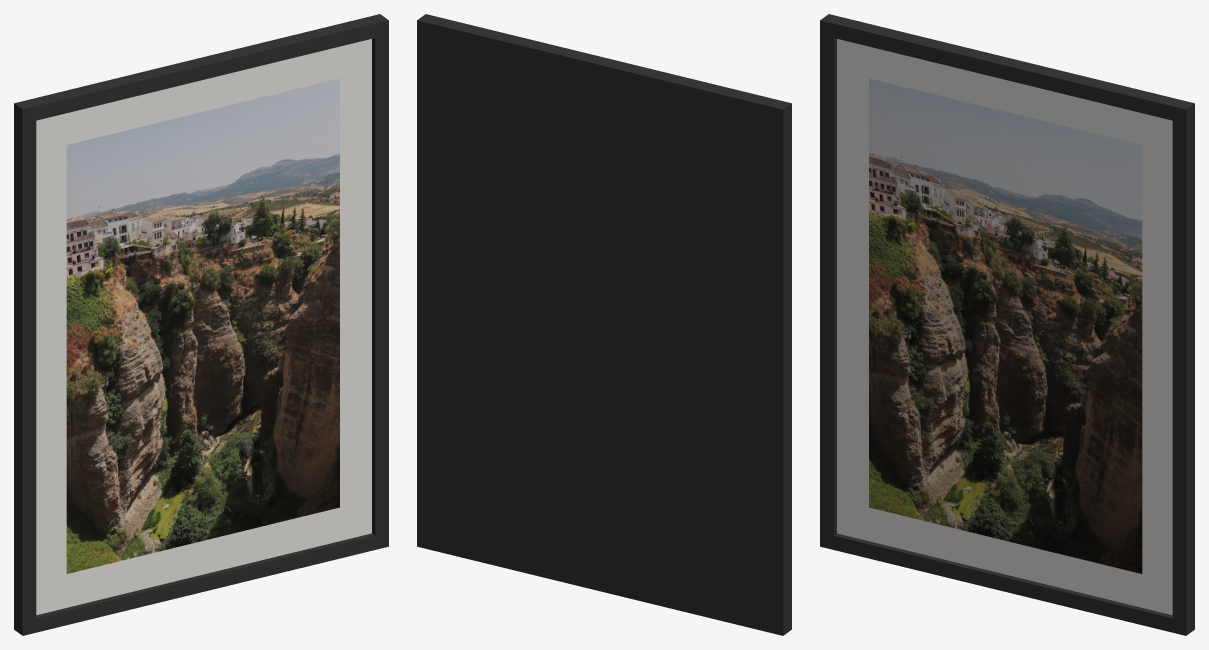
File: ronda-60.gltf
3 views of the same model, side by side, from view 1: azimuth 30°, elevation 25°; view 2: azimuth 150°, elevation 25°; view 3: azimuth 330°, elevation 25° (orthographic).
Parts seen in each view (by area): view 1: tavla; view 2: tavla; view 3: tavla.
Part boxes in pixels (left/top/right/bottom): tavla: left=14, top=14, right=388, bottom=635; tavla: left=417, top=14, right=791, bottom=635; tavla: left=820, top=14, right=1194, bottom=635.
Size of the model in its own units: 0.5356 by 0.7359 by 0.022.
Materials: 3 (1 with a texture image).
